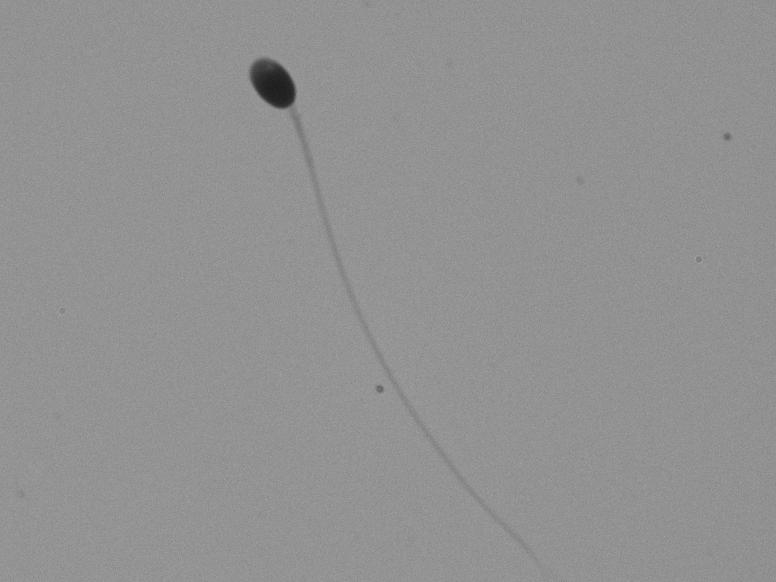Normal: (146, 49, 531, 526)
